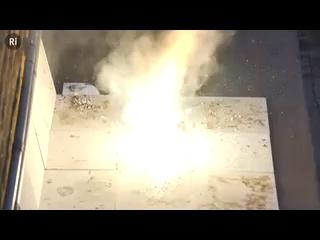Fire: (118, 60, 189, 181)
